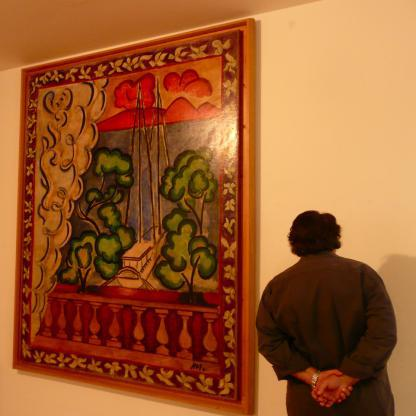Picture-frame: (15, 20, 261, 416)
